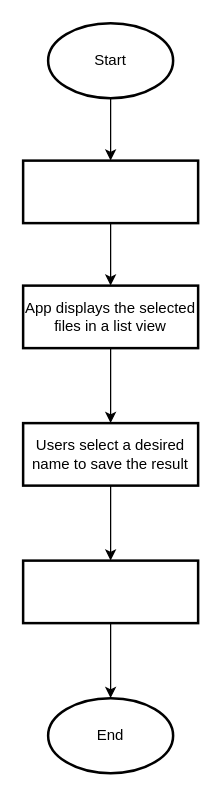
This 220x795 diagram has some shape labels left out. The shapes that lost their labels are listed below. From the top down, each one's centre as x and y in pixels, then its label:
At point 110,191: "Users select files".
At point 110,591: "App extract comments in the selected files into the desired file".
